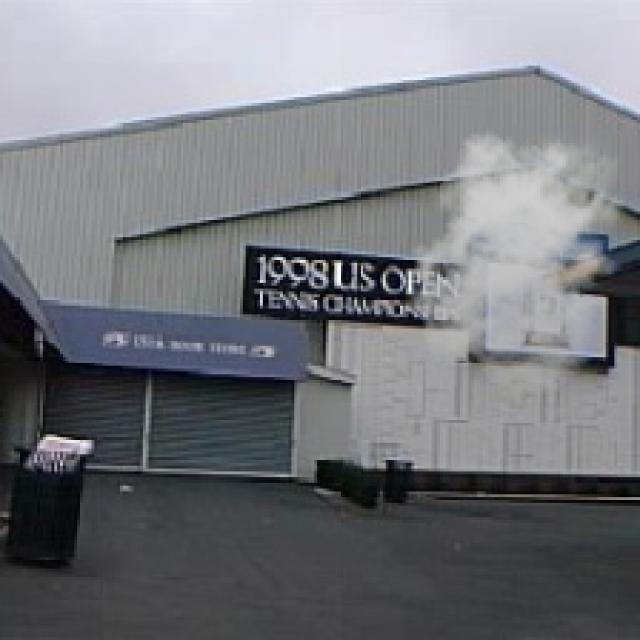smoke: (403, 123, 637, 397)
